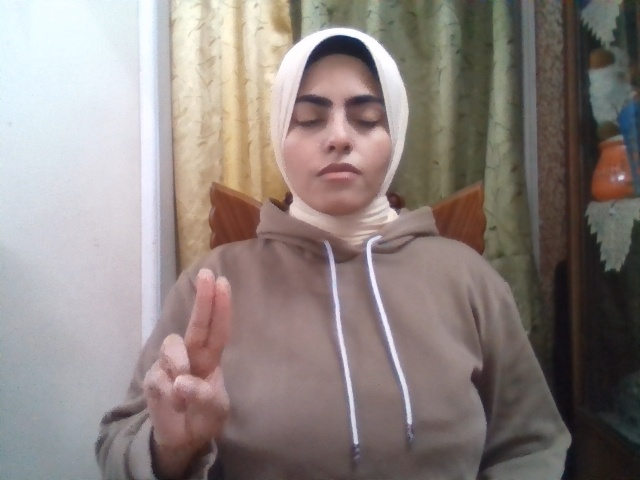U: (144, 268, 232, 449)
